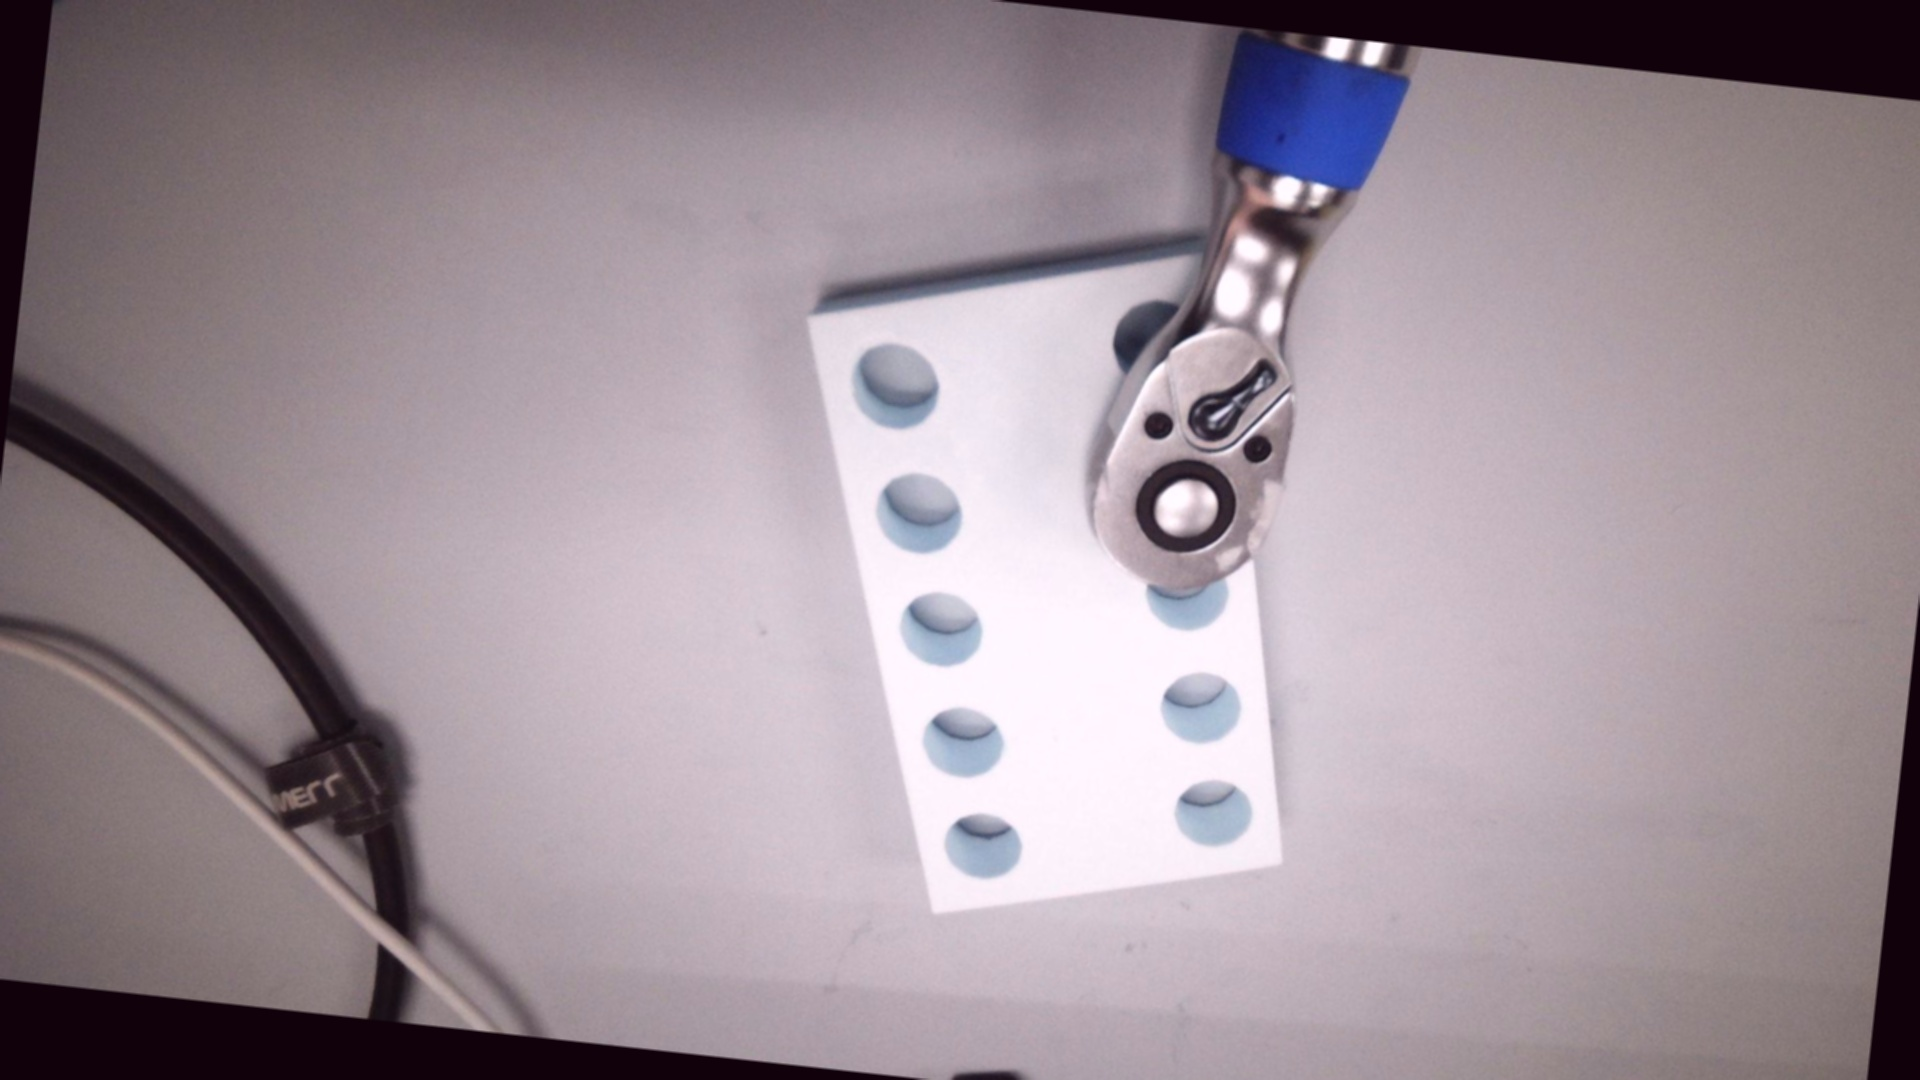hole: (866, 467, 967, 556), (847, 339, 942, 433), (891, 587, 986, 671), (916, 702, 1007, 781), (1109, 293, 1188, 382), (1158, 669, 1244, 746), (1168, 774, 1255, 851), (940, 810, 1027, 882), (1142, 566, 1232, 634)
obj: (744, 193, 1349, 953)
wrench: (1131, 451, 1242, 559)
